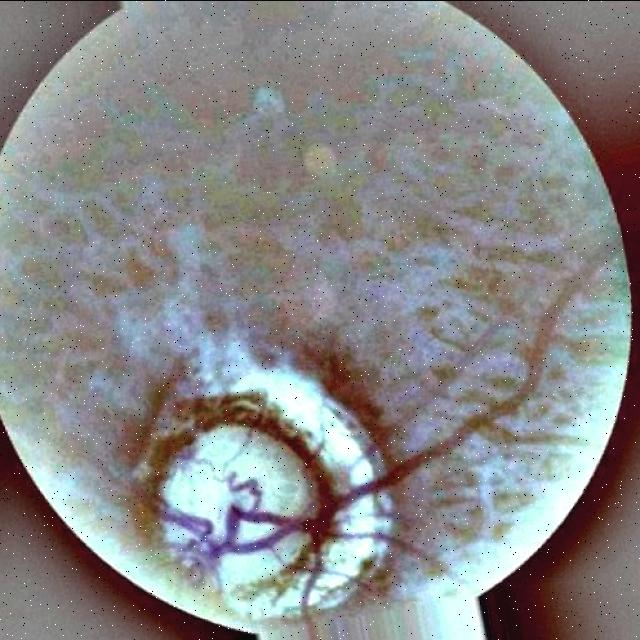Macula: (303, 143, 333, 174)
Nerves: (157, 286, 570, 618)
Optic Disk: (161, 368, 387, 618)
